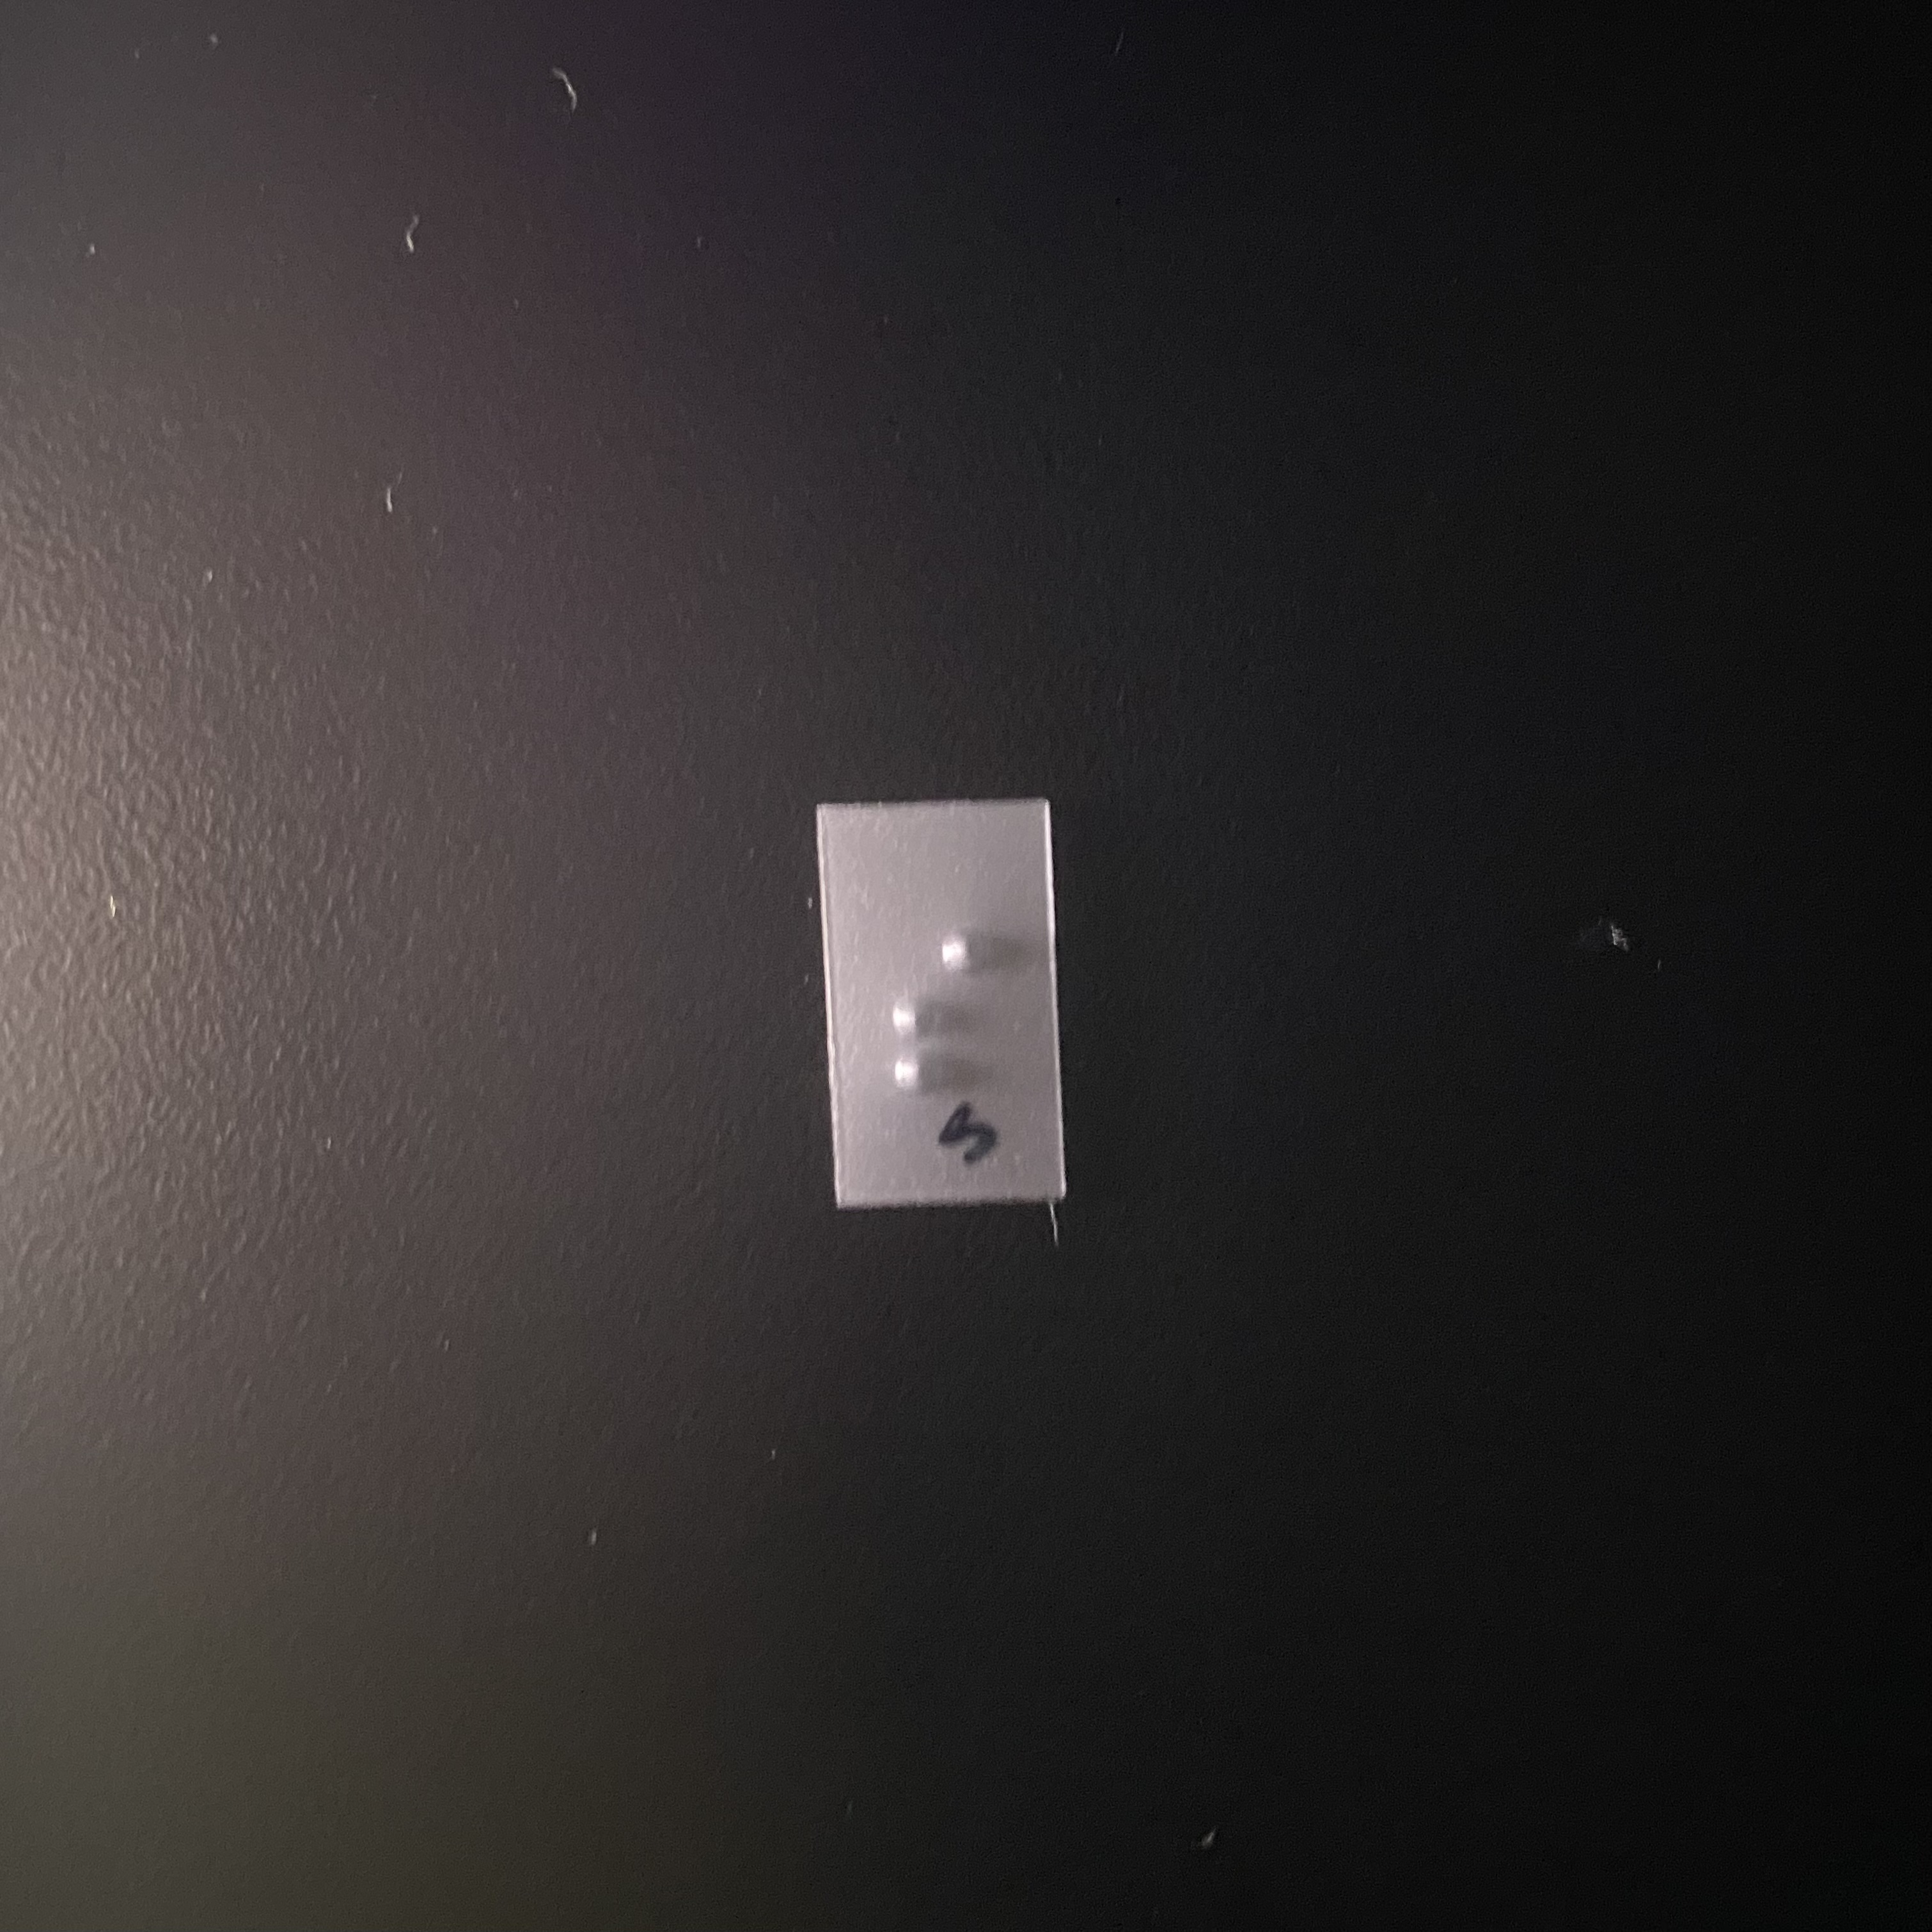s: (882, 925, 1025, 1106)
